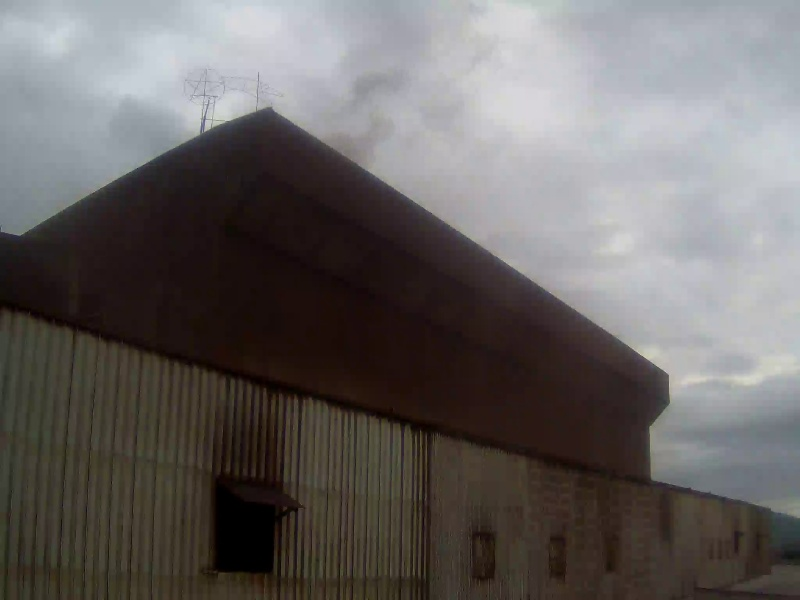bom: (6, 9, 257, 186), (629, 331, 794, 496)
ruim: (264, 73, 676, 482)
